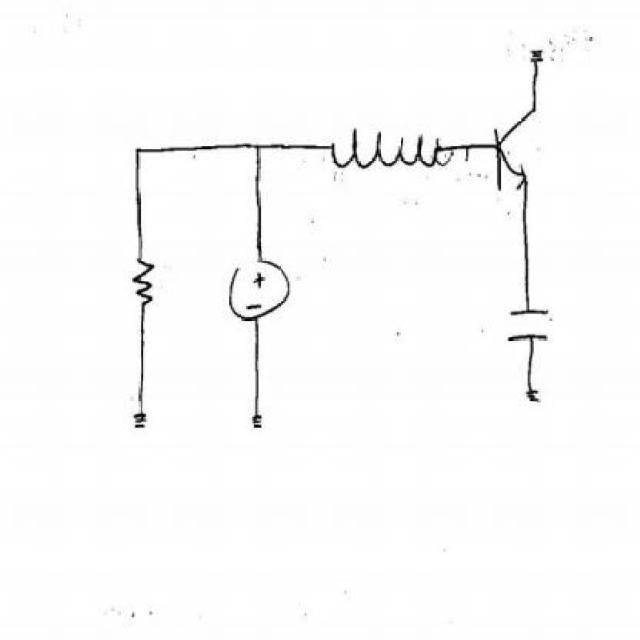capacitor: (500, 298, 562, 351)
ground: (242, 406, 274, 445), (126, 405, 160, 439), (517, 384, 553, 415), (526, 38, 552, 72)
inductor: (326, 122, 456, 172)
resistor: (128, 252, 160, 316)
transistor: (484, 108, 544, 196)
voltage_source: (226, 258, 294, 325)
